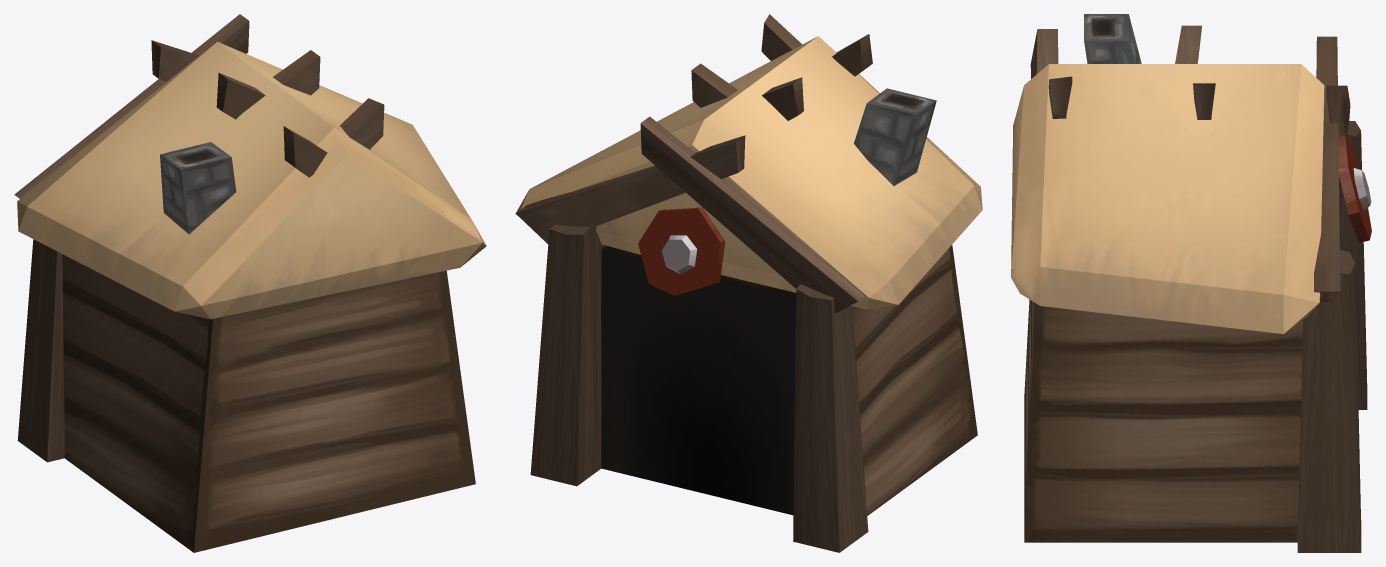
The model's file is hutte.fbx.
The picture shows the model from 3 angles, left to right: view 1: azimuth 30°, elevation 25°; view 2: azimuth 150°, elevation 25°; view 3: azimuth 270°, elevation 25°; orthographic projection. The views are drawn at different scales.
Visible parts, largest first — view 1: polySurface1; view 2: polySurface1; view 3: polySurface1.
Part boxes in pixels (x1,y1,x2,y2): polySurface1: (14, 14, 486, 552); polySurface1: (515, 14, 982, 552); polySurface1: (1011, 14, 1371, 552).
Size of the model in its own units: 62.46 by 58.68 by 45.18.
